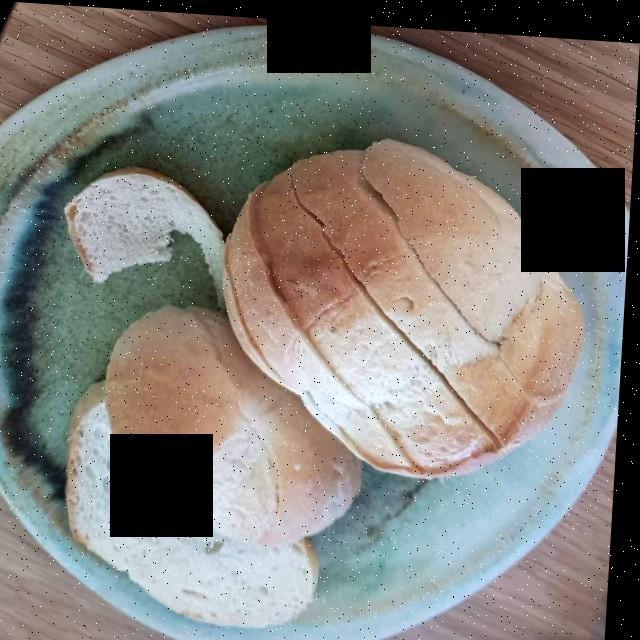bread: (69, 142, 578, 618)
